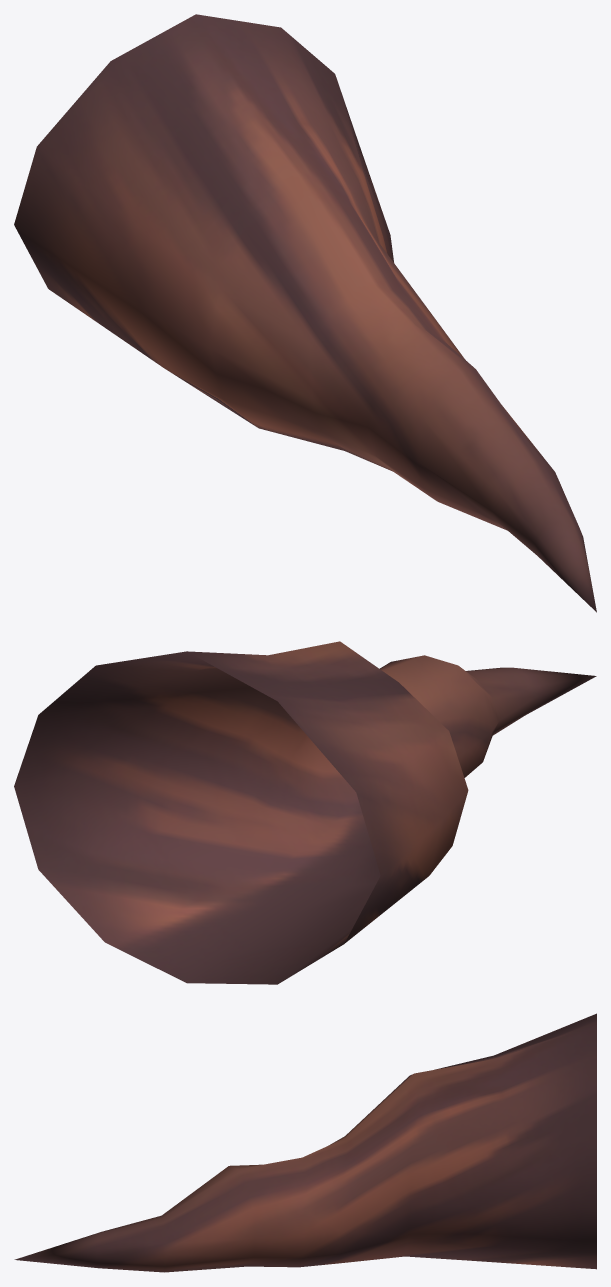
3 views of the same model, one above another, from view 1: azimuth 30°, elevation 25°; view 2: azimuth 150°, elevation 25°; view 3: azimuth 270°, elevation 25° (orthographic). The views are drawn at different scales.
Parts seen in each view (by area): view 1: Object013; view 2: Object013; view 3: Object013.
Part boxes in pixels (x1,y1,x2,y2): Object013: (14, 14, 596, 612); Object013: (14, 641, 596, 984); Object013: (14, 1013, 596, 1272).
Bounding box in the file's own units: 32.46 × 28.2 × 64.23.
